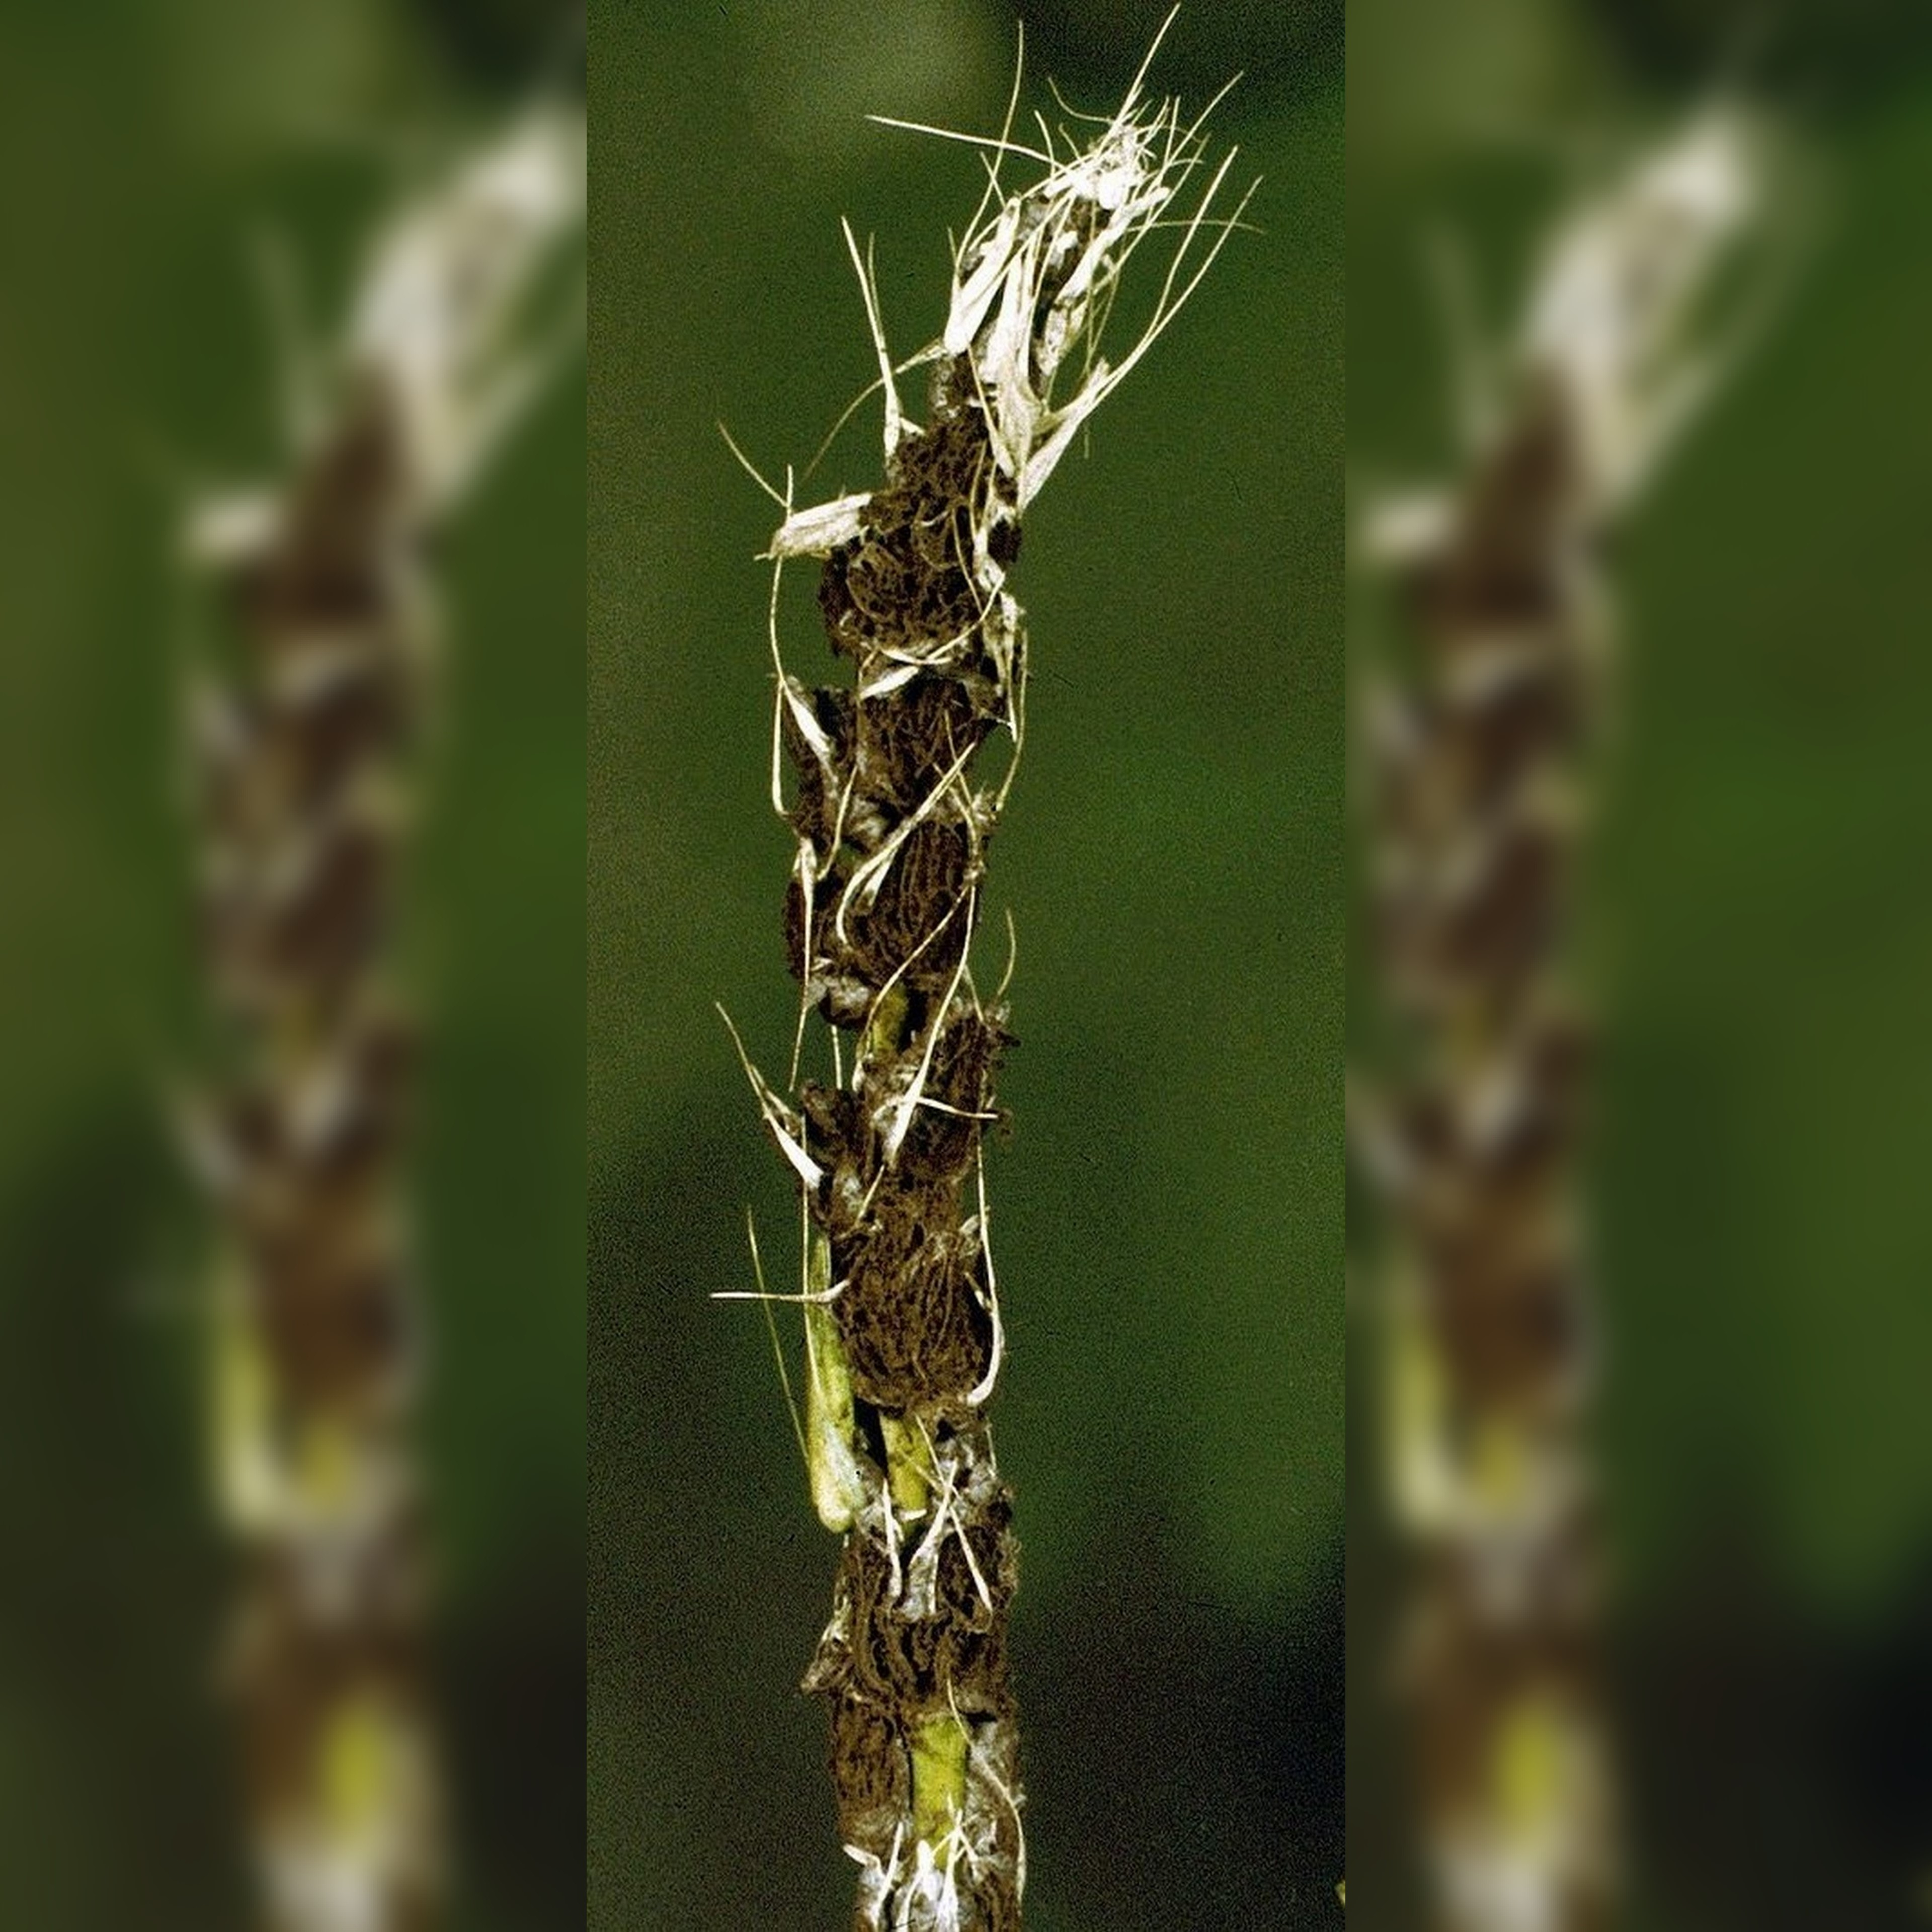Wheat Loose Smut: (715, 42, 1253, 1203)
